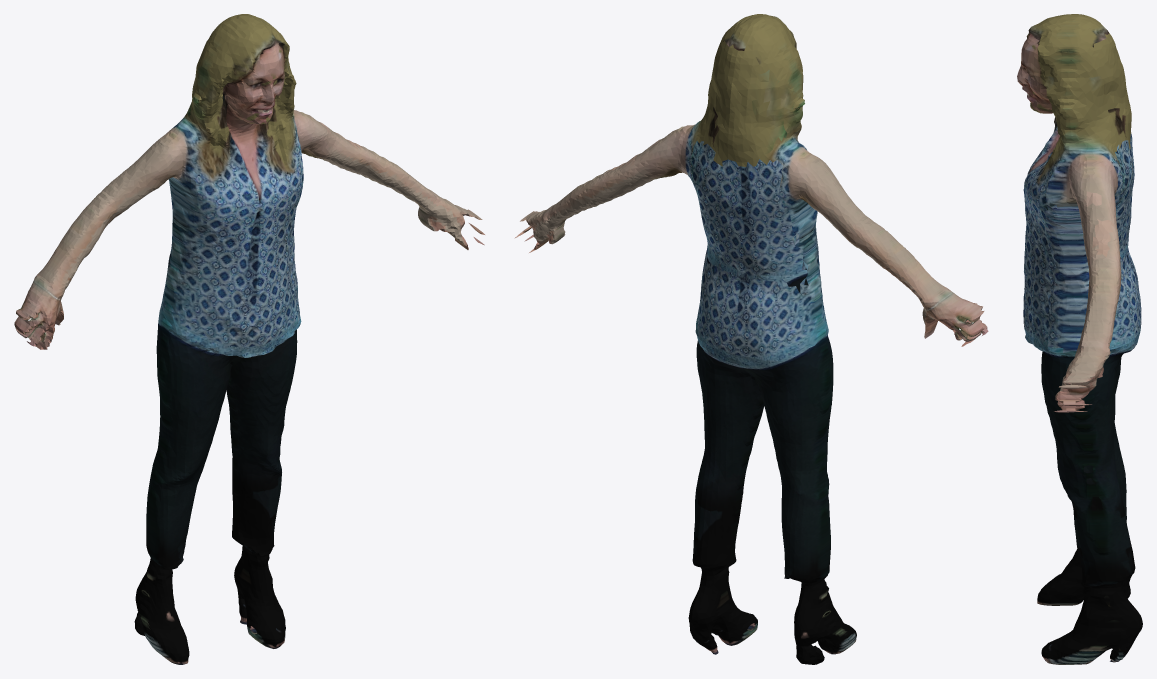
Rendered from MariaLuisaBuena.fbx.
3 renders of one model, left to right at view 1: azimuth 30°, elevation 25°; view 2: azimuth 150°, elevation 25°; view 3: azimuth 270°, elevation 25°, orthographic. The views are drawn at different scales.
Parts seen in each view (by area): view 1: result_Maria Luisa_256 (1).002; view 2: result_Maria Luisa_256 (1).002; view 3: result_Maria Luisa_256 (1).002.
Part boxes in pixels (x1,y1,x2,y2): result_Maria Luisa_256 (1).002: [14, 14, 484, 664]; result_Maria Luisa_256 (1).002: [514, 14, 988, 664]; result_Maria Luisa_256 (1).002: [1017, 14, 1142, 664].
Bounding box in the file's own units: 143 × 187 × 33.46.
Materials: 1 (1 with a texture image).
